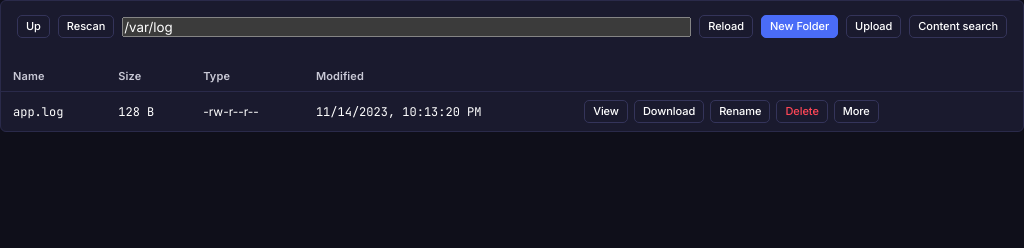
FilesTab viewer › opens a small text file in the viewer
Click the text "app.log" at point(54, 112), box [1,92,106,131]
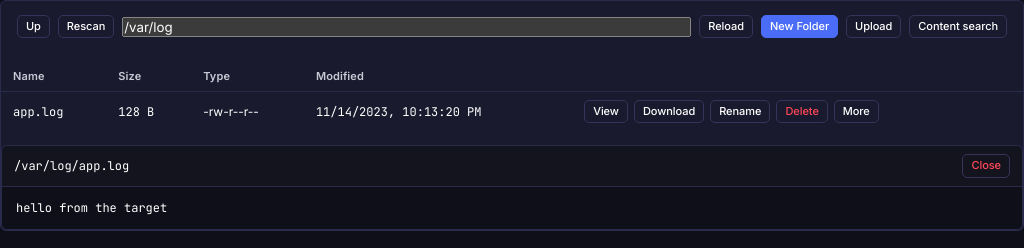
Expected: the text "hello from the target" is shown, [16,200,167,216]
